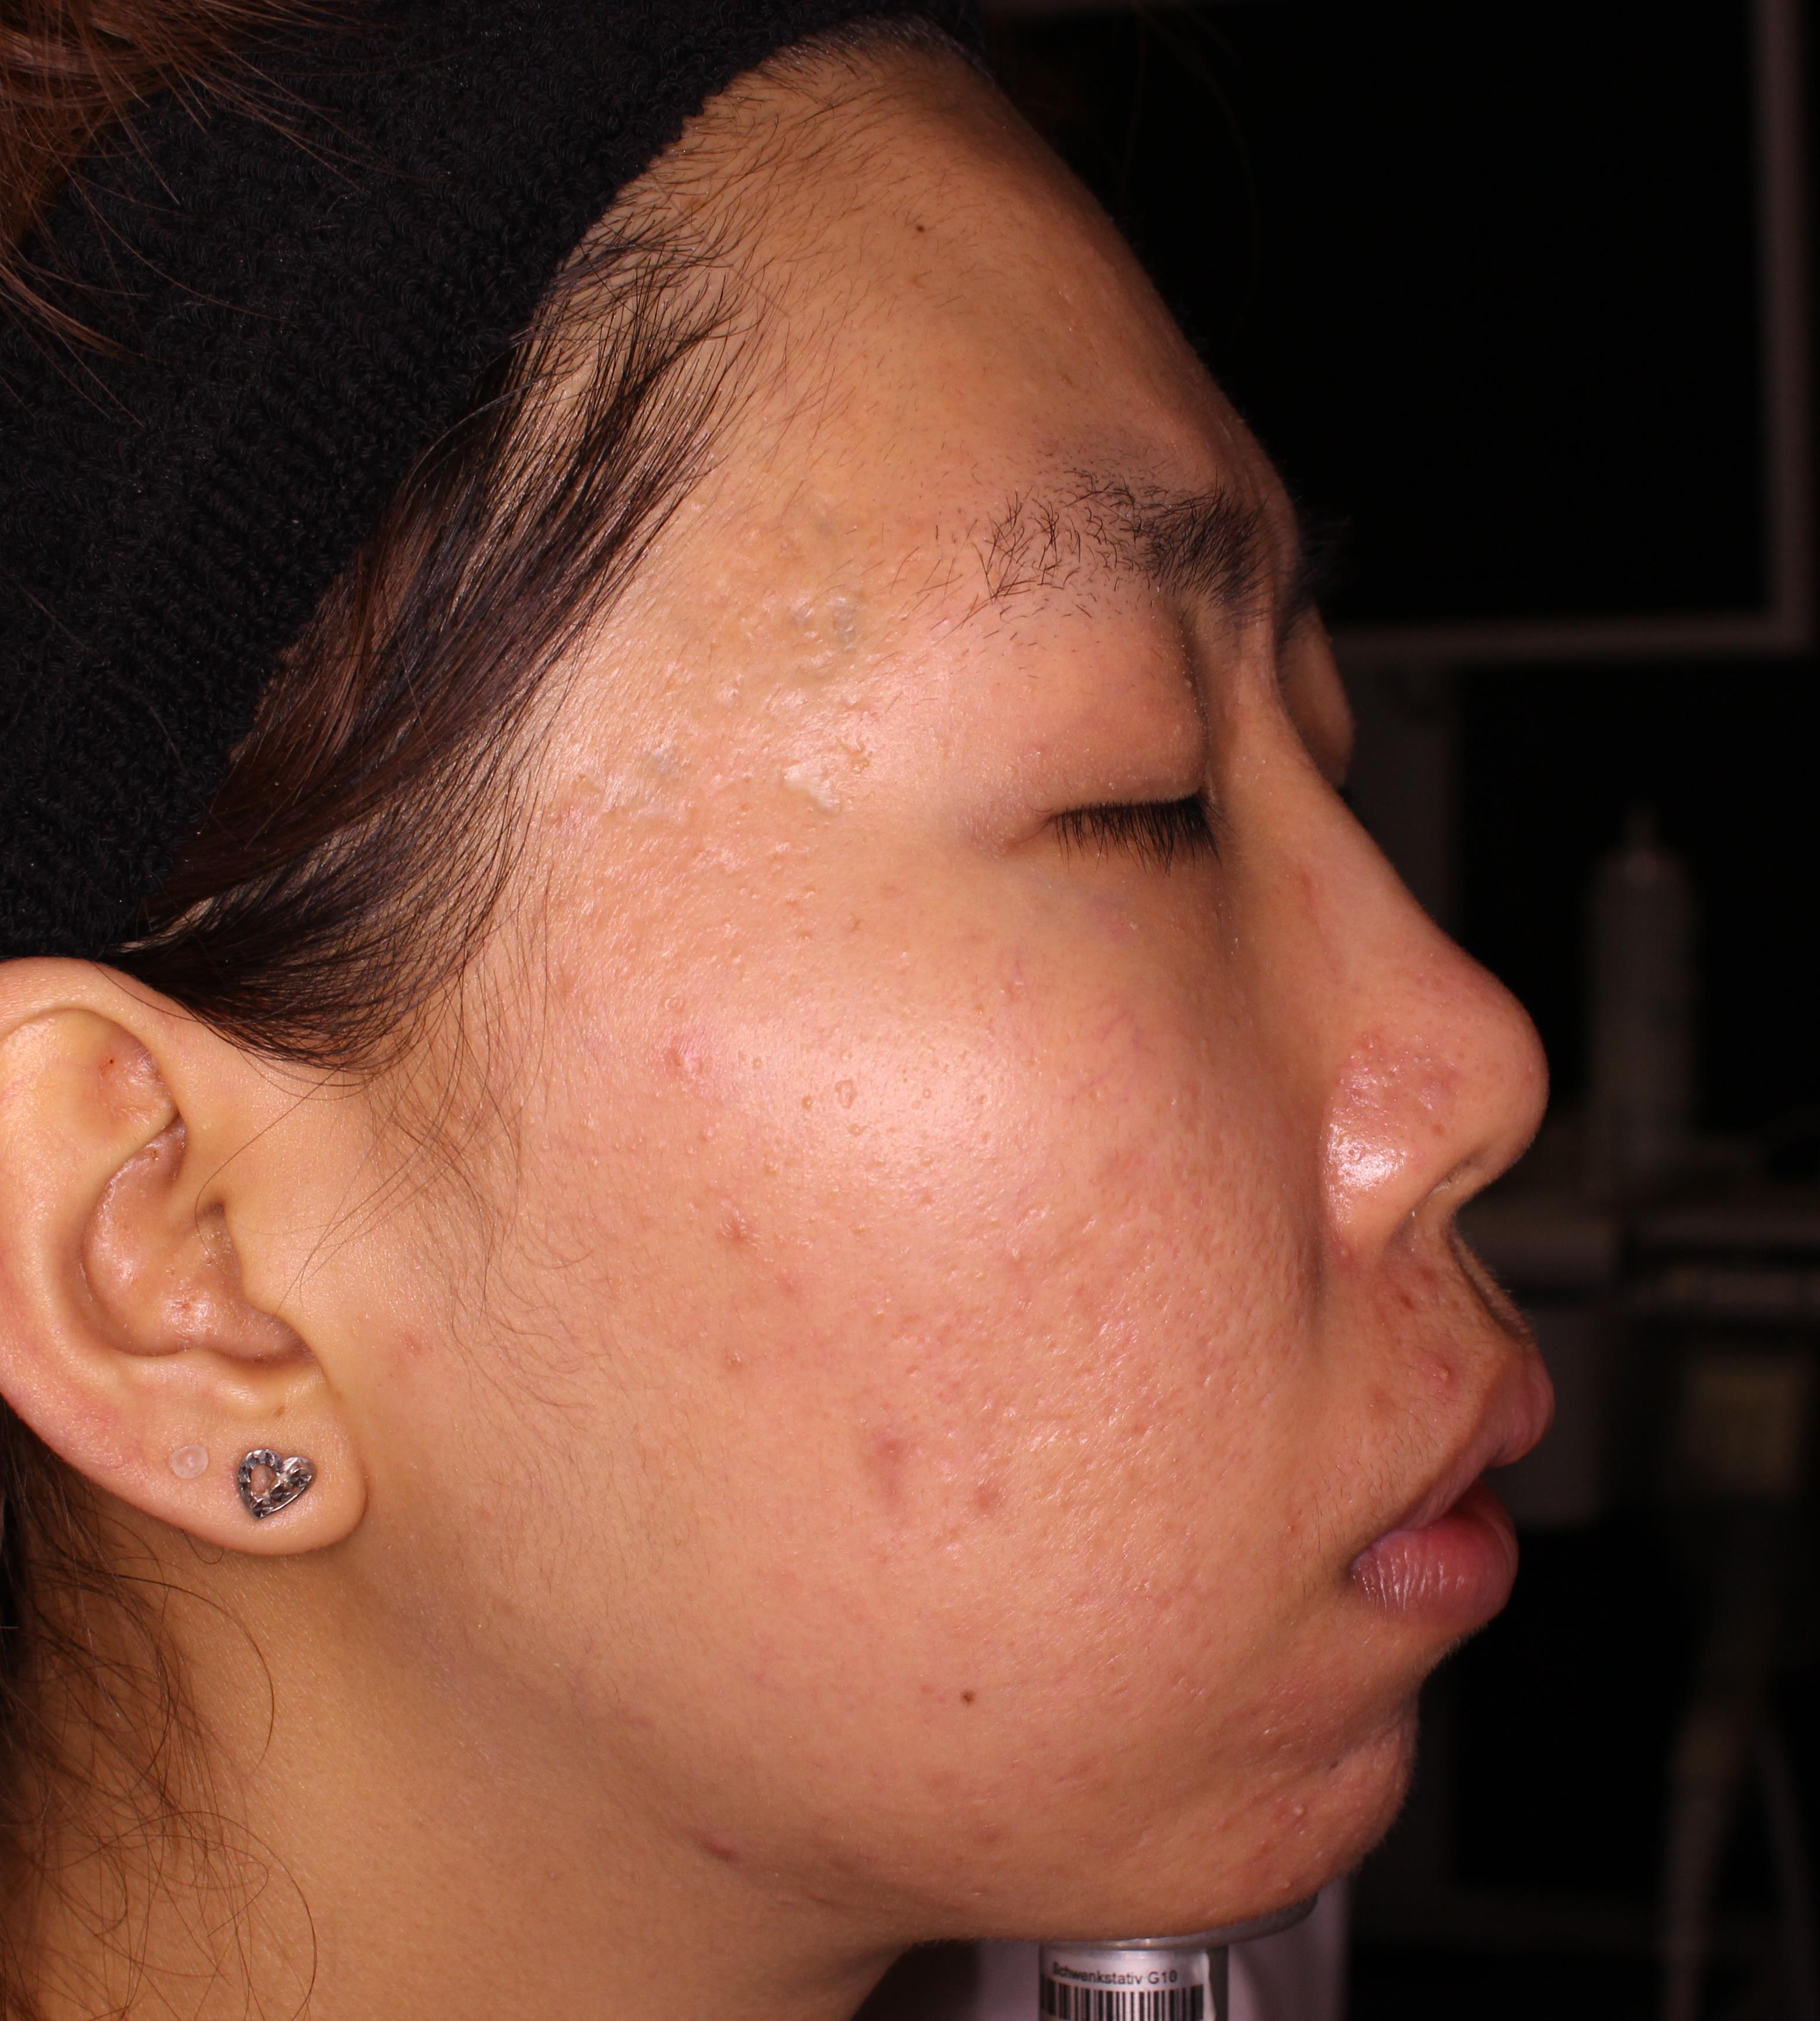fore: (861, 1401, 921, 1536), (1400, 1343, 1493, 1424), (646, 1020, 731, 1104), (678, 1791, 750, 1886), (950, 1456, 1028, 1531), (704, 1196, 771, 1277), (1395, 1236, 1462, 1303)
